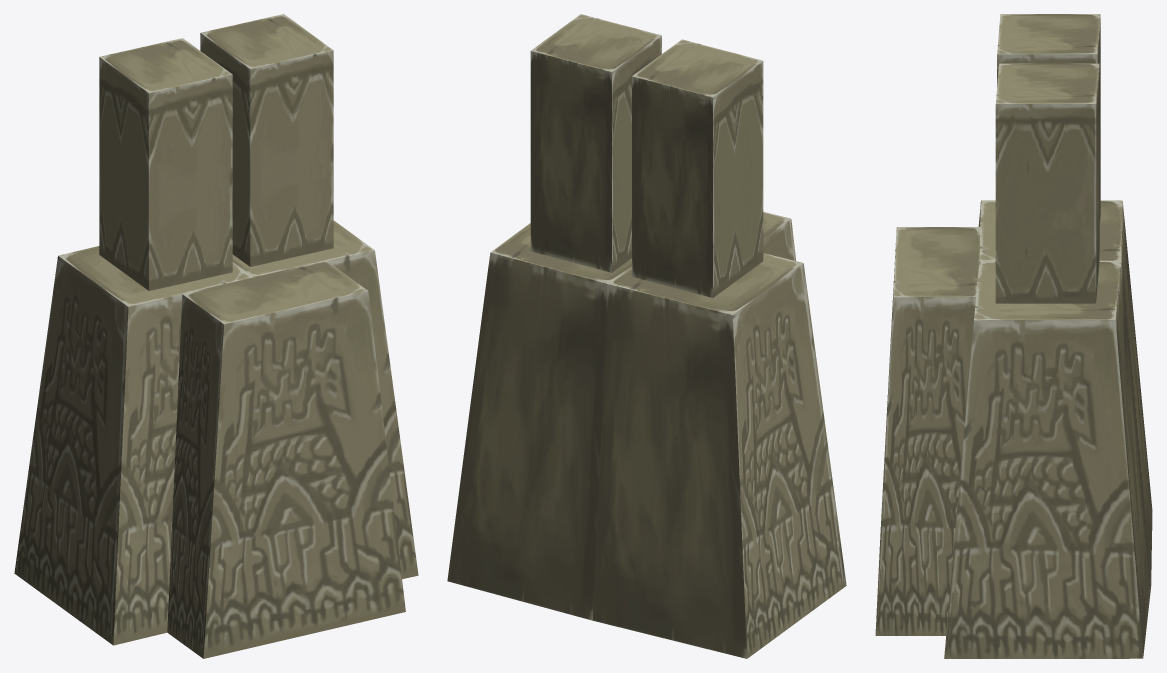
The model's file is pillar_base.fbx.
3 renders of one model, left to right at view 1: azimuth 30°, elevation 25°; view 2: azimuth 150°, elevation 25°; view 3: azimuth 270°, elevation 25°, orthographic.
Visible parts, largest first — view 1: polySurface94; view 2: polySurface94; view 3: polySurface94.
Boxes of the visible parts, <box> form: polySurface94: <box>14,14,418,658</box>; polySurface94: <box>447,14,846,658</box>; polySurface94: <box>875,14,1152,658</box>.
Size of the model in its own units: 0.6362 by 1.05 by 0.5024.
